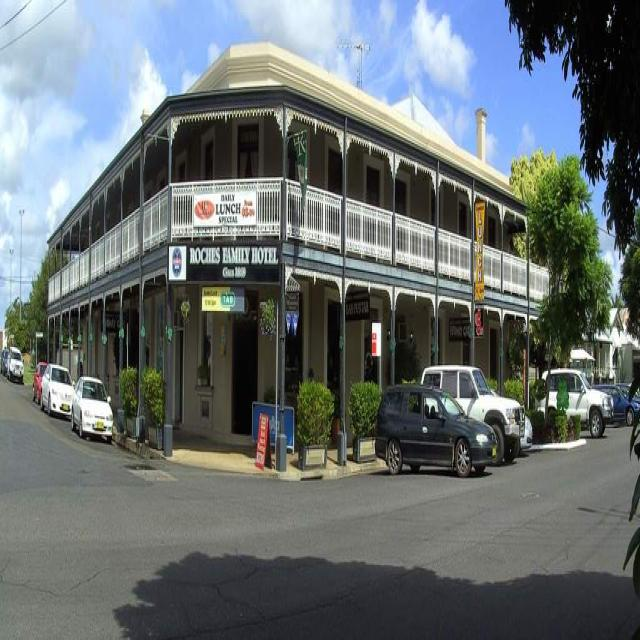car: (375, 382, 496, 473), (72, 376, 112, 428), (6, 346, 21, 382)
